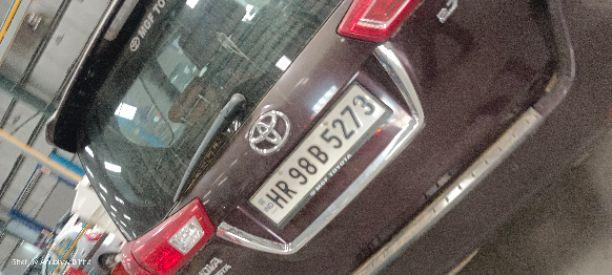license_plate: (246, 77, 393, 229)
